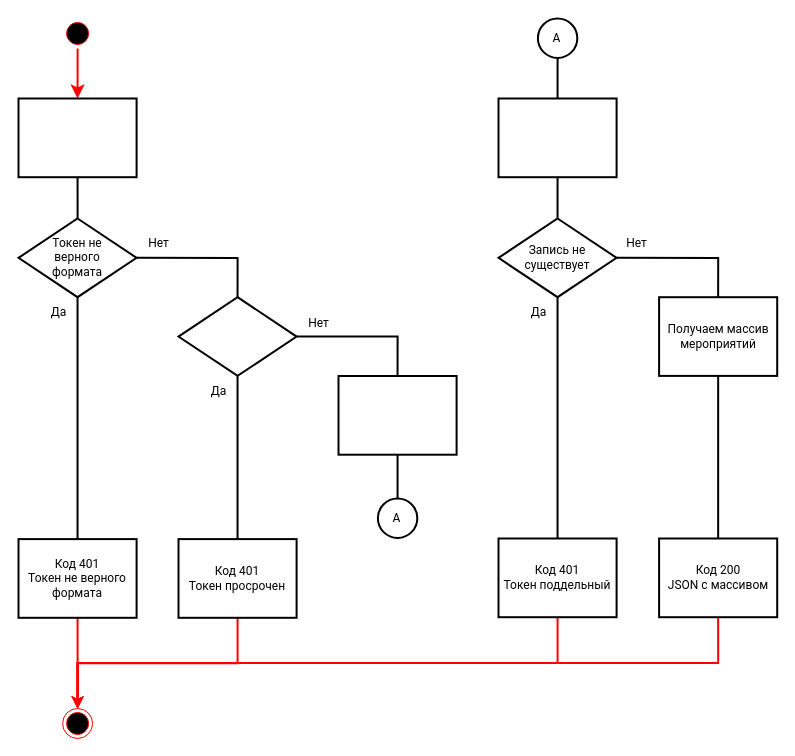
This 795x756 diagram has some shape labels left out. The shapes that lost their labels are listed below. From the top down, each one's centre as x and y in pixels, then its label:
At (77,137): "Получаем из заголовка запроса AccessToken".
At (557,137): "Получаем запись с БД с UserId и AccessToken".
At (237,336): "Токен просрочен".
At (397,414): "Достаем с токена UserId".
